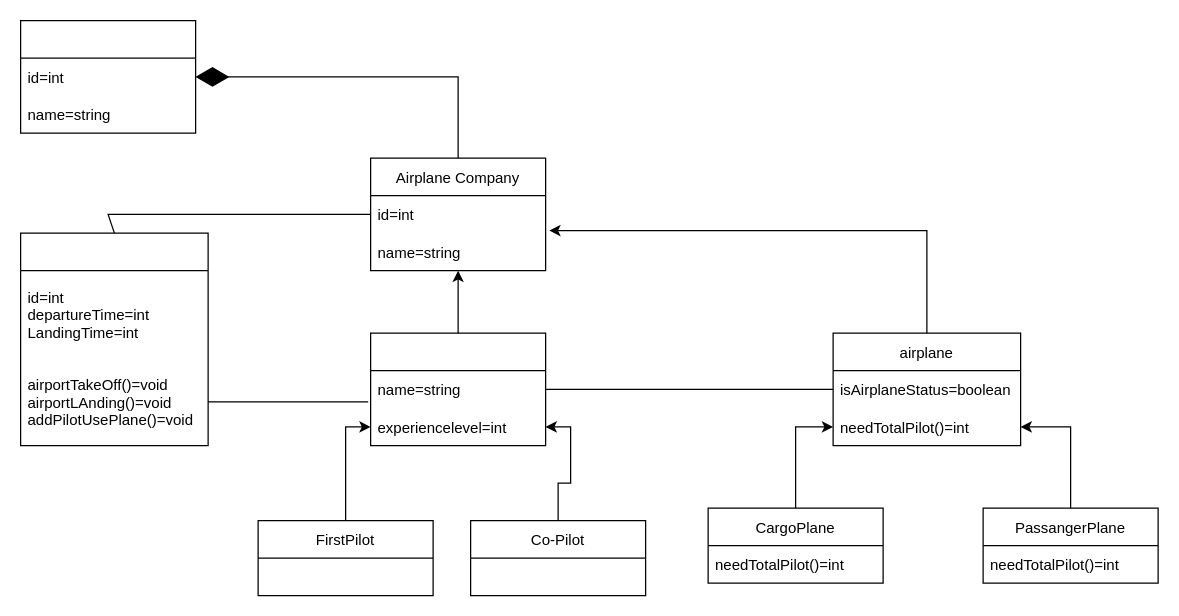
Image size: 1179x616. Some labels were removed from this diagram. The shapes that lost their labels are listed below. From the top down, each one's box as (x1, y1, x2, y2) in pixels, then its label:
(19, 19, 196, 133): airport
(19, 232, 208, 446): flights
(369, 332, 546, 446): pilot
